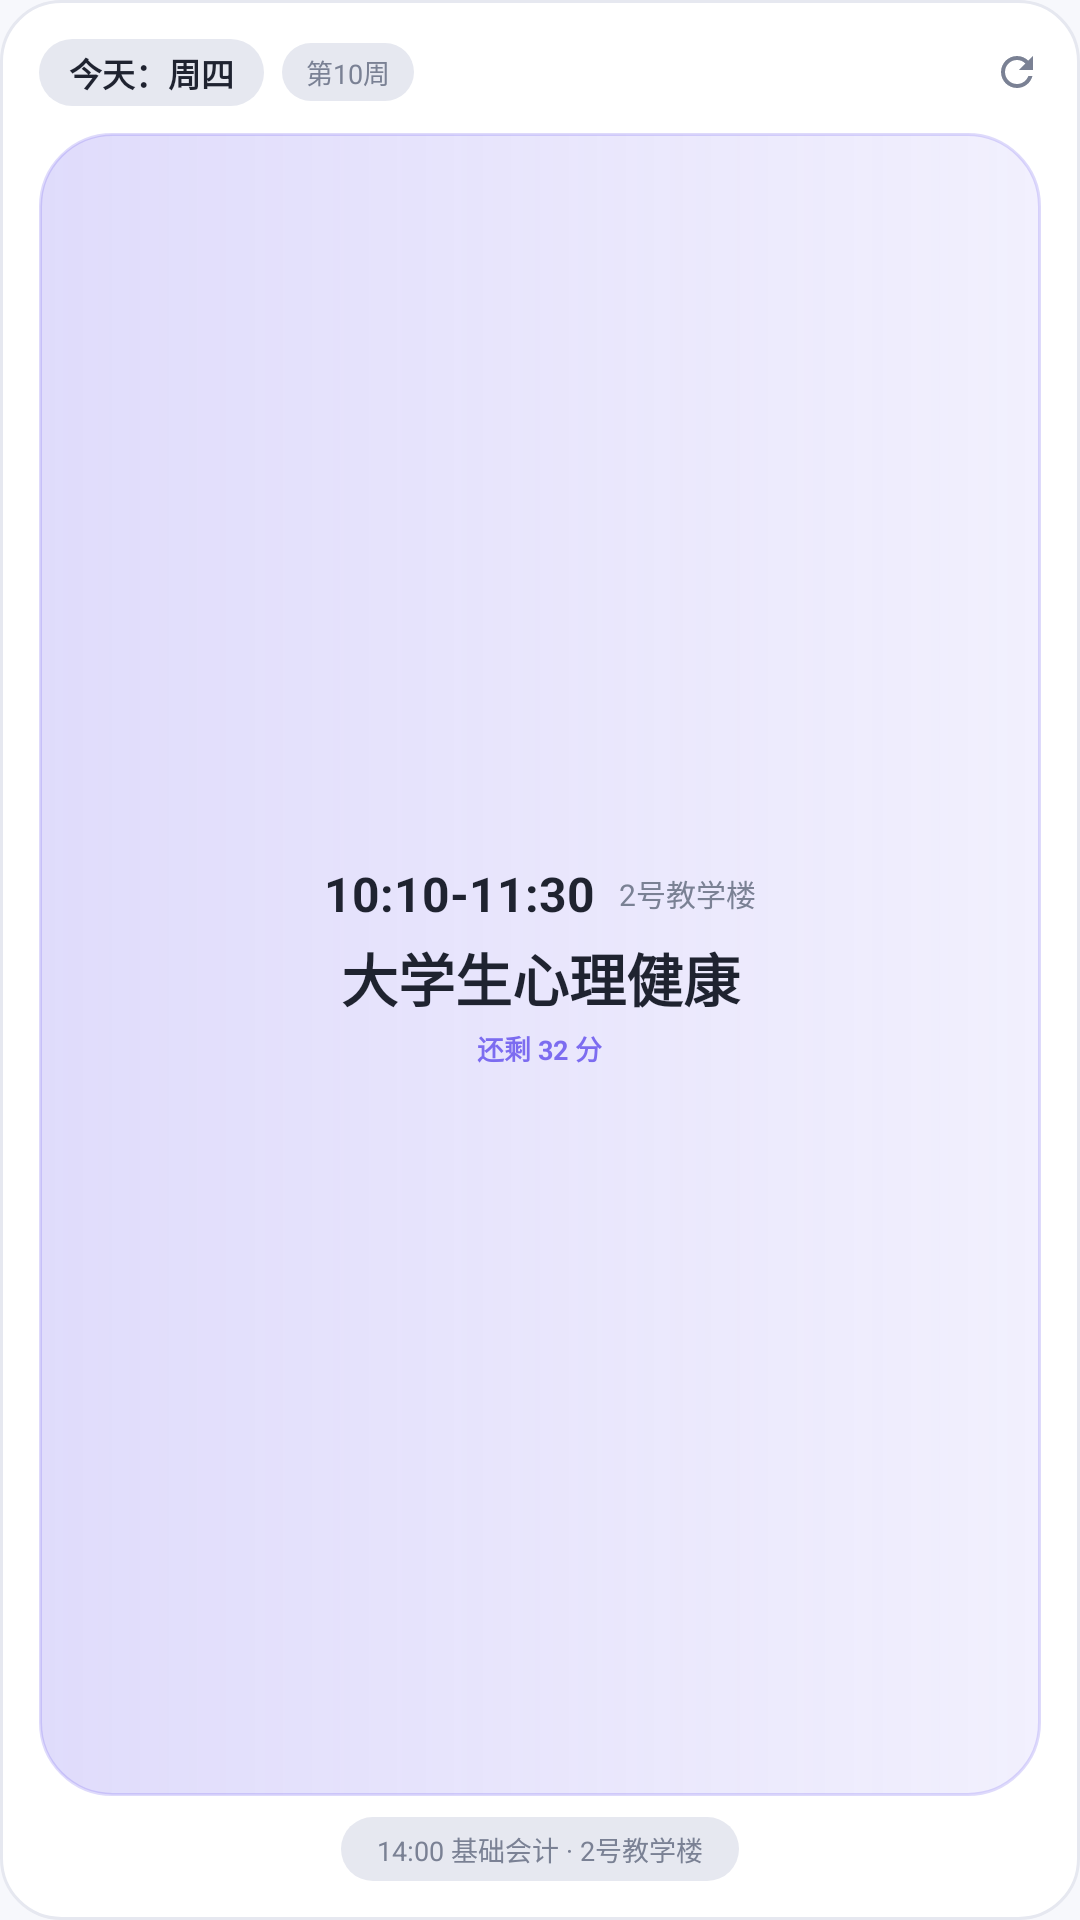

Locate icon controls on the screen. Image size 1080x1920, boxes as rect(x1, y1, x2, y2).
刷新: rect(1001, 56, 1033, 88)
